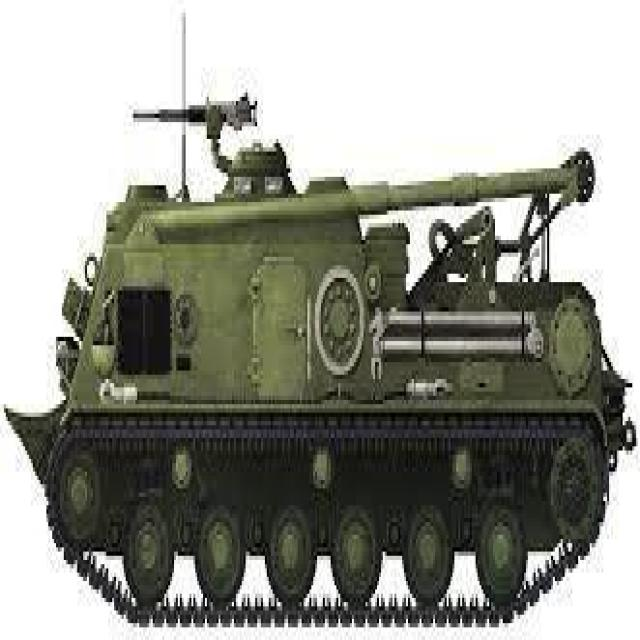Tanks: (30, 78, 616, 634)
